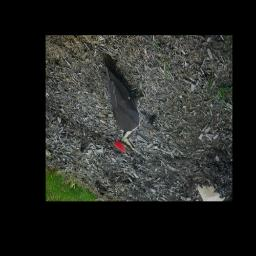Woodpecker: (99, 53, 149, 158)
